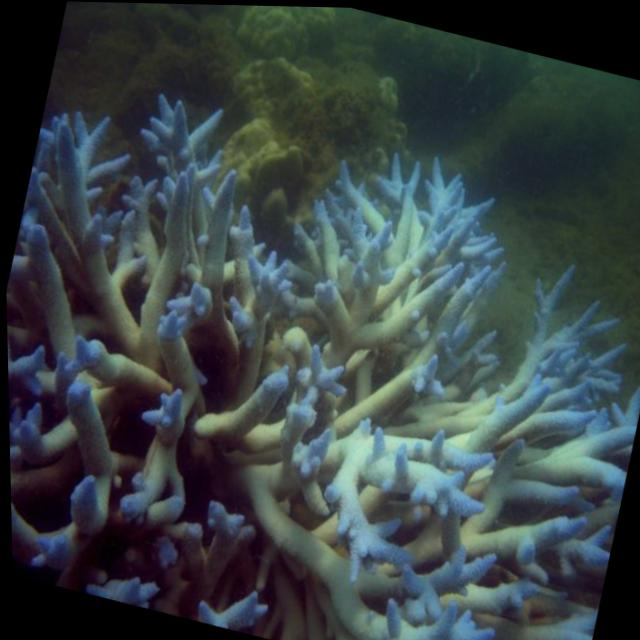Bleached Coral: (1, 60, 640, 640)
